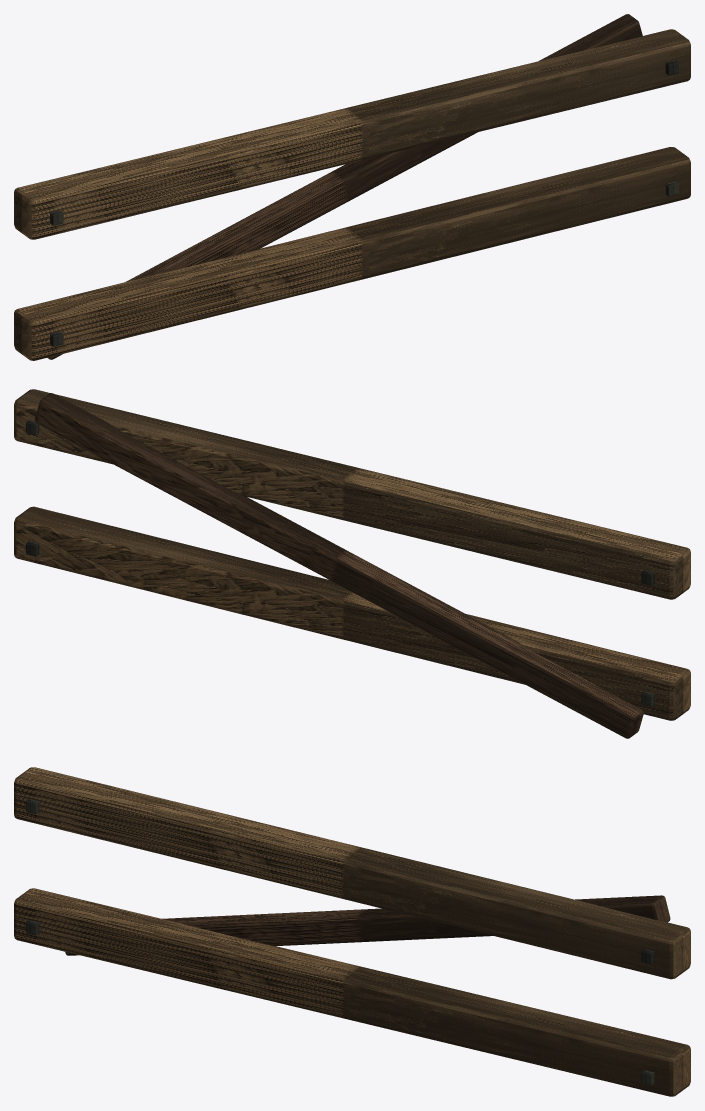
The model's file is fence_bay_a.glb.
3 renders of one model, top to bottom at view 1: azimuth 30°, elevation 25°; view 2: azimuth 150°, elevation 25°; view 3: azimuth 330°, elevation 25°, orthographic.
Visible parts, largest first — view 1: fence_bay_a; view 2: fence_bay_a; view 3: fence_bay_a.
Boxes of the visible parts, <box> form: fence_bay_a: <box>14,14,690,360</box>; fence_bay_a: <box>14,389,690,738</box>; fence_bay_a: <box>14,767,690,1096</box>.
Size of the model in its own units: 2 by 0.5674 by 0.171.
Materials: 3 (3 with a texture image).
